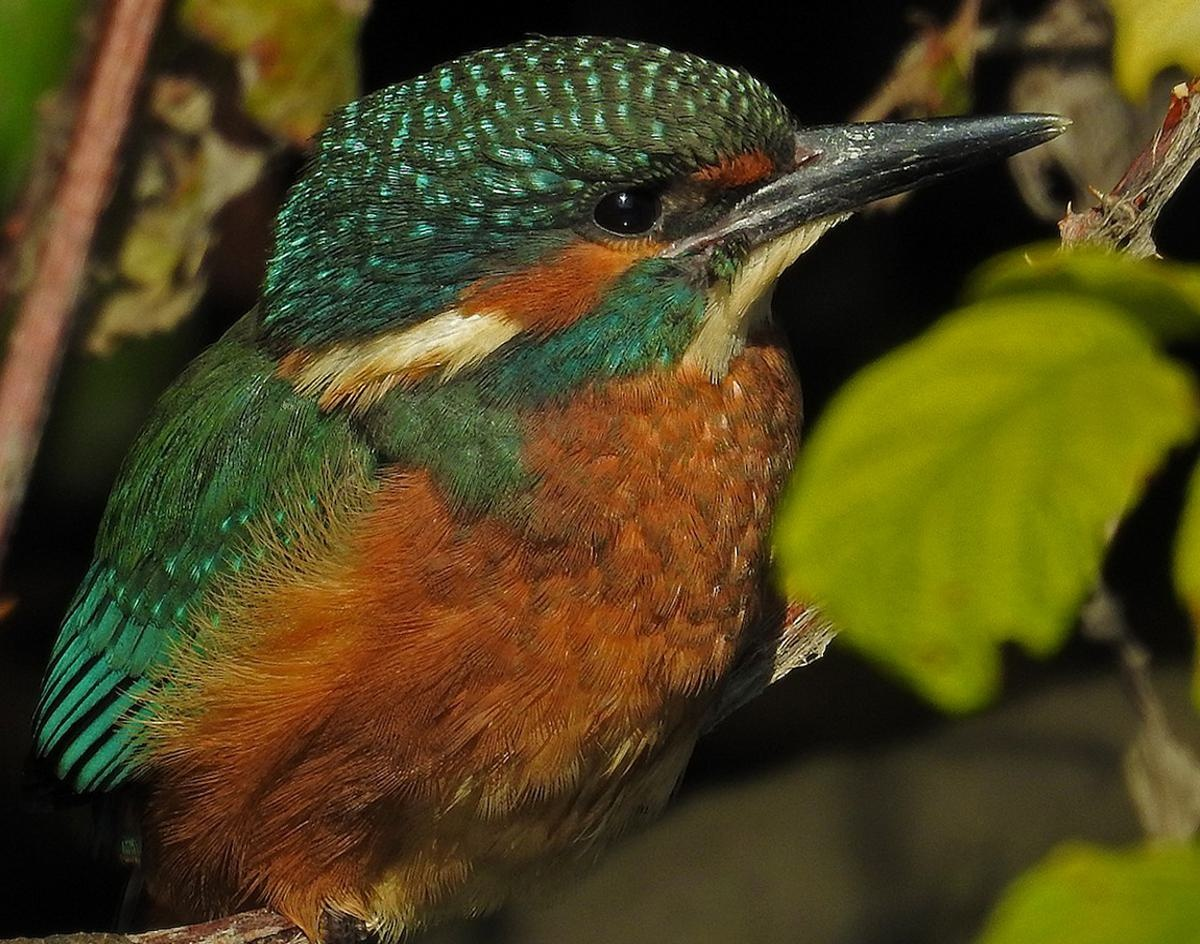kingfisher: (78, 49, 1075, 852)
